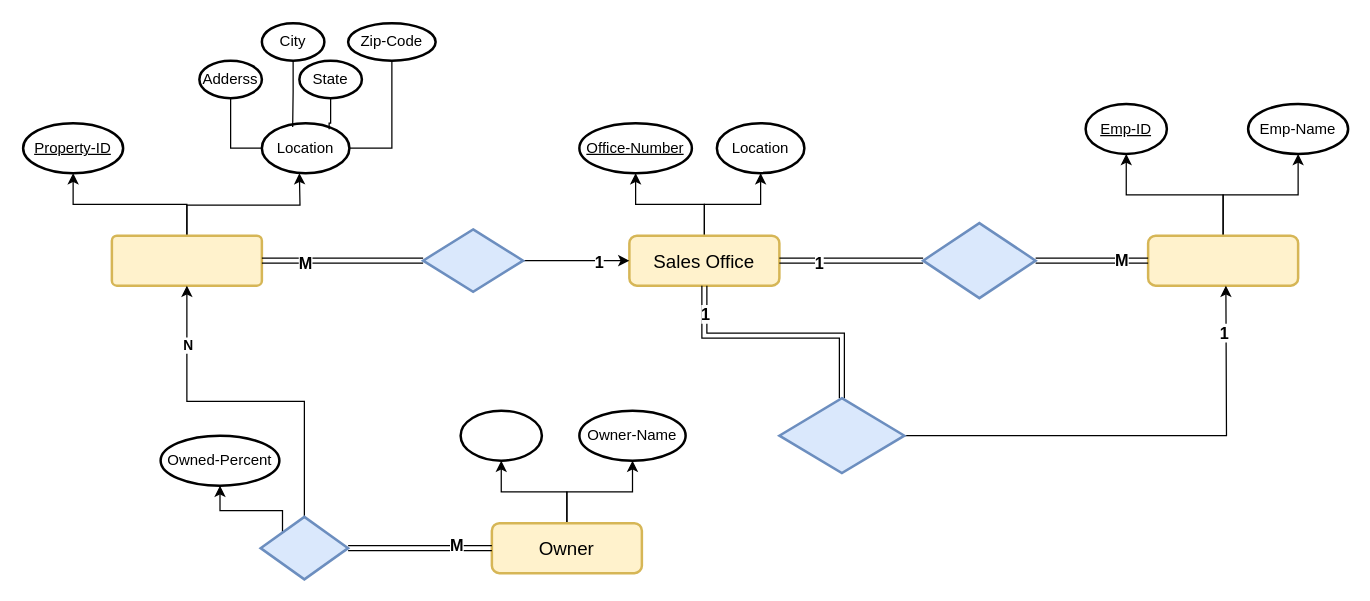
The diagram is 1370 pixels wide and 601 high, and some of its shapes have lost their labels. Here are the shapes that lost their labels. From the top down, the centre of each, then its label:
At pixel 186 260: "Property".
At pixel 472 260: "Listed".
At pixel 978 260: "Assigned".
At pixel 1222 260: "Employee".
At pixel 500 435: "Owner-ID".
At pixel 841 435: "Manage".
At pixel 304 547: "Own".
